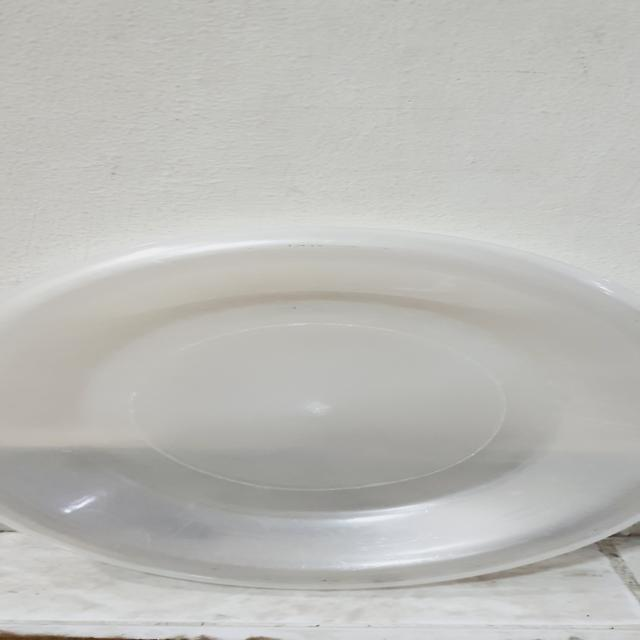plastic: (1, 225, 638, 590)
